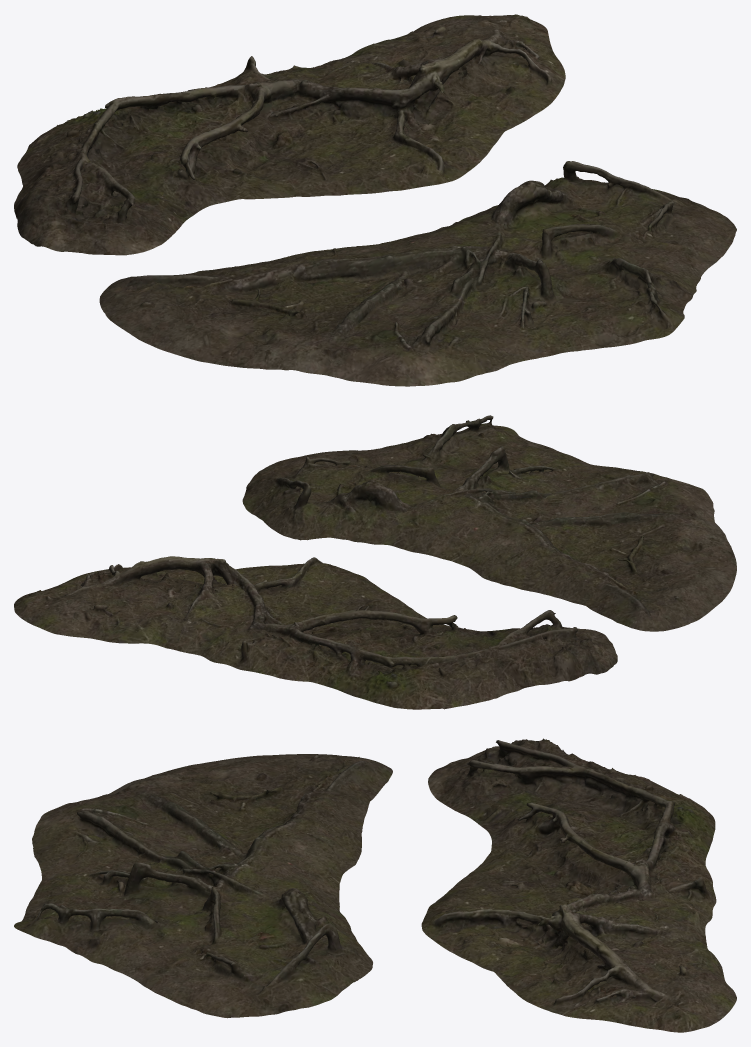
Rendered from pine_roots.gltf.
3 views of the same model, one above another, from view 1: azimuth 30°, elevation 25°; view 2: azimuth 150°, elevation 25°; view 3: azimuth 270°, elevation 25° (orthographic). The views are drawn at different scales.
Visible parts, largest first — view 1: pine_roots_b, pine_roots_a; view 2: pine_roots_b, pine_roots_a; view 3: pine_roots_b, pine_roots_a.
Boxes of the visible parts, <box> form: pine_roots_b: <box>99,161,736,386</box>; pine_roots_a: <box>14,14,565,255</box>; pine_roots_b: <box>242,415,736,631</box>; pine_roots_a: <box>14,556,617,709</box>; pine_roots_b: <box>14,754,392,1018</box>; pine_roots_a: <box>421,738,736,1032</box>.
Size of the model in its own units: 1.77 by 0.1548 by 1.89.
2 materials, 2 textured.
